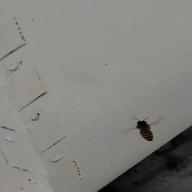Bee: (123, 112, 169, 142)
